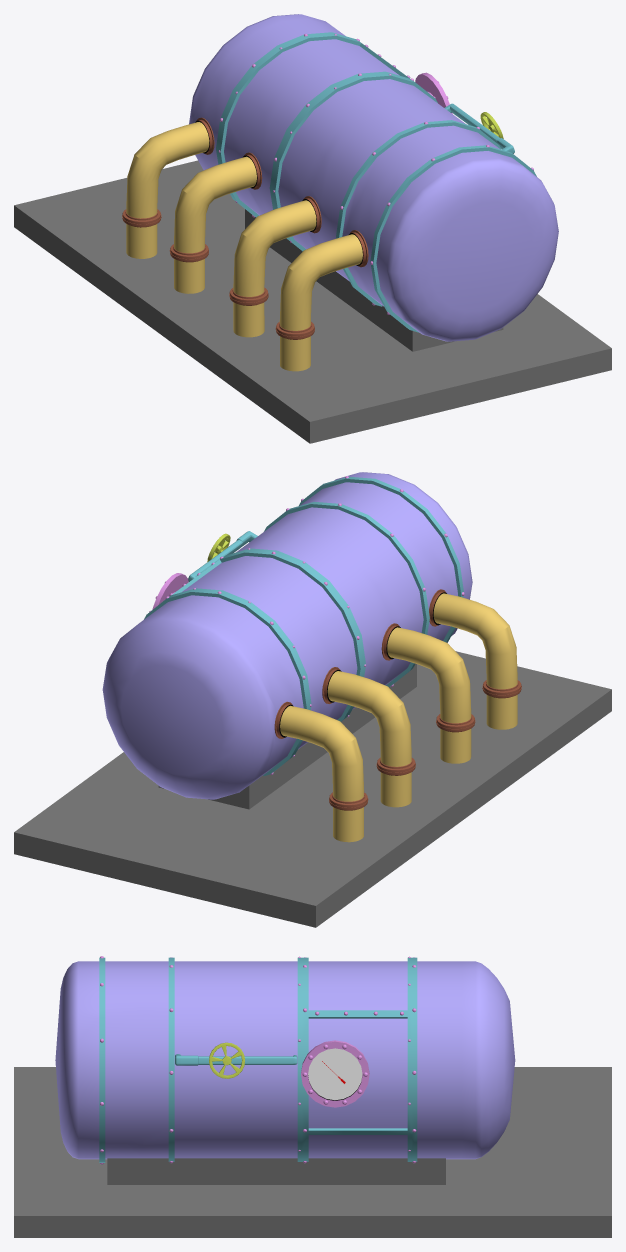
Rendered from Tank_R2.fbx.
3 views of the same model, one above another, from view 1: azimuth 30°, elevation 25°; view 2: azimuth 150°, elevation 25°; view 3: azimuth 270°, elevation 25° (orthographic).
Visible parts, largest first — view 1: pCylinder21, pCube183, pCube204, pCube195, pCube206, pCube202, pCube200, pCube159; view 2: pCylinder21, pCube183, pCube202, pCube206, pCube204, pCube195, pCube200; view 3: pCylinder21, pCube183, pCube200, pCube182, pCube159, pCylinder22.
Boxes of the visible parts, x1,y1,x2,y2 form: pCylinder21: (189,14,558,341); pCube183: (14,160,611,443); pCube204: (233,200,316,337); pCube195: (126,122,209,258); pCube206: (279,234,362,371); pCube202: (174,156,256,293); pCube200: (245,209,503,351); pCube159: (444,103,514,153); pCylinder21: (102,472,472,799); pCube183: (14,651,611,927); pCube202: (327,671,411,807); pCube206: (433,593,517,729); pCube204: (387,627,471,763); pCube195: (280,705,364,842); pCube200: (158,664,416,809); pCylinder21: (55,957,515,1162); pCube183: (14,1067,611,1237); pCube200: (107,1158,445,1184); pCube182: (301,1040,369,1107); pCube159: (175,1054,297,1065); pCylinder22: (209,1042,244,1078).
Bounding box in the file's own units: 86.86 × 59.77 × 147.
Materials: 2 (1 with a texture image).
